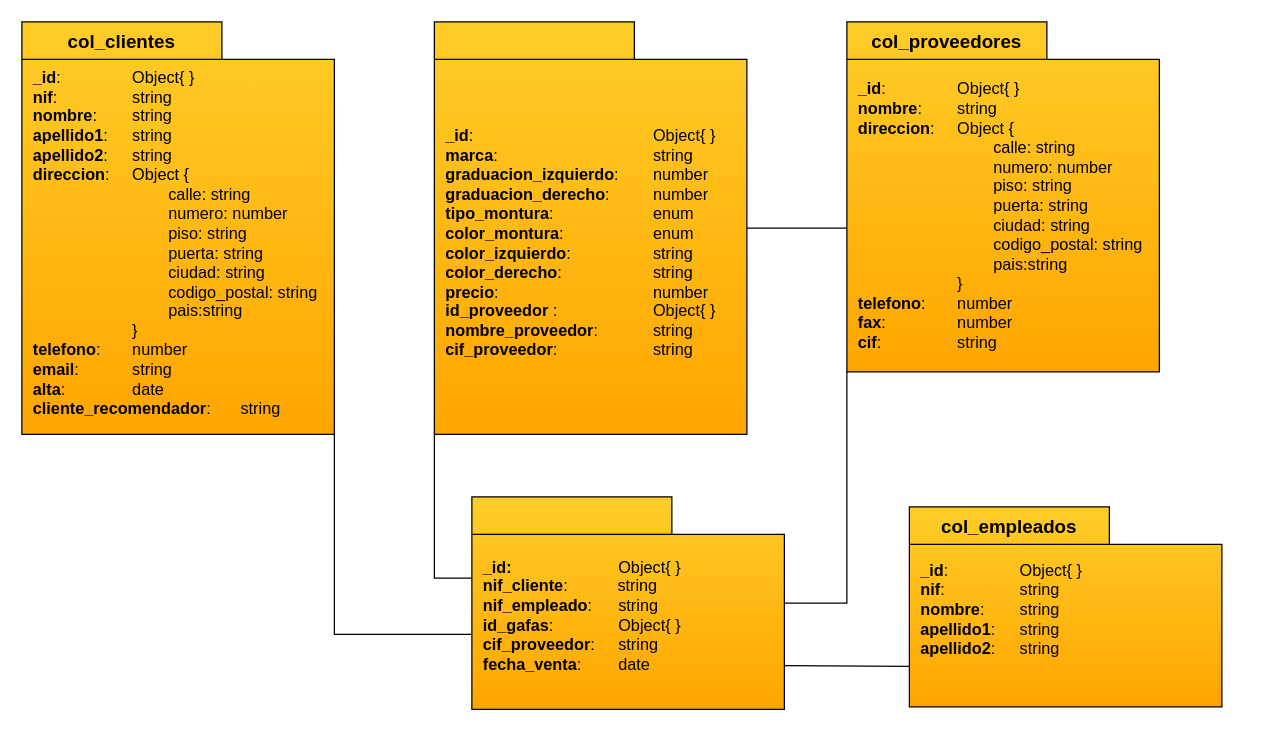
Some shapes in this 1283 by 731 pixel diagram are drawn without their labels. Here are the shapes that lost their labels. From the top down, the centre of each, then its label:
At (590,227): "col_gafas".
At (627,602): "col_ventas".
